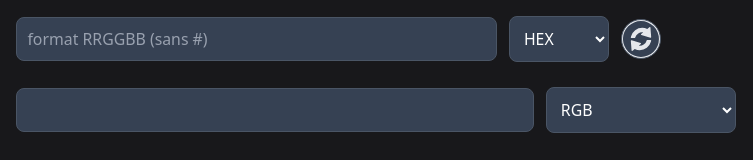
Color Converter › should load and render the Colors component dynamically
Type "#00FF00" into the field with test id "color-input".
click(257, 39); type("#00FF00")  # box [16,17,497,61]
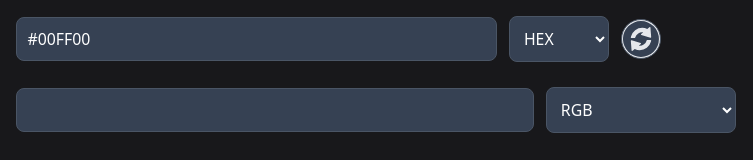
Select "HEX" in the dropdown with test id "unit-from-select" at (559, 39), box [509,16,609,62]
Select "RGB" in the dropdown with test id "unit-to-select" at (641, 110), box [546,87,736,133]
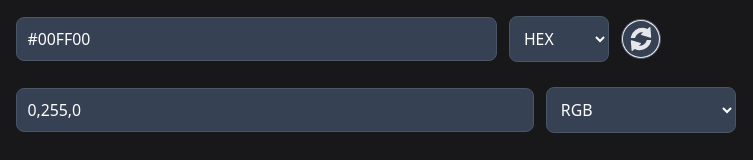
Now the field with test id "color-output" holds "0,255,0", box [16,88,534,132]
Click the button with test id "switch-button".
click(641, 39)  # box [621,19,661,59]
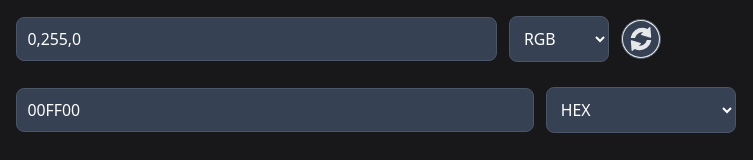
Now the field with test id "color-input" holds "0,255,0", box [16,17,497,61]
Now the field with test id "color-output" holds "00FF00", box [16,88,534,132]
